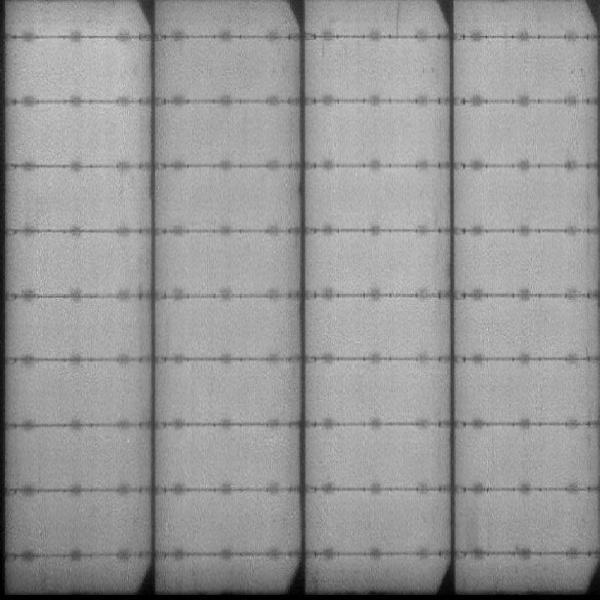scratch: (392, 1, 404, 33)
